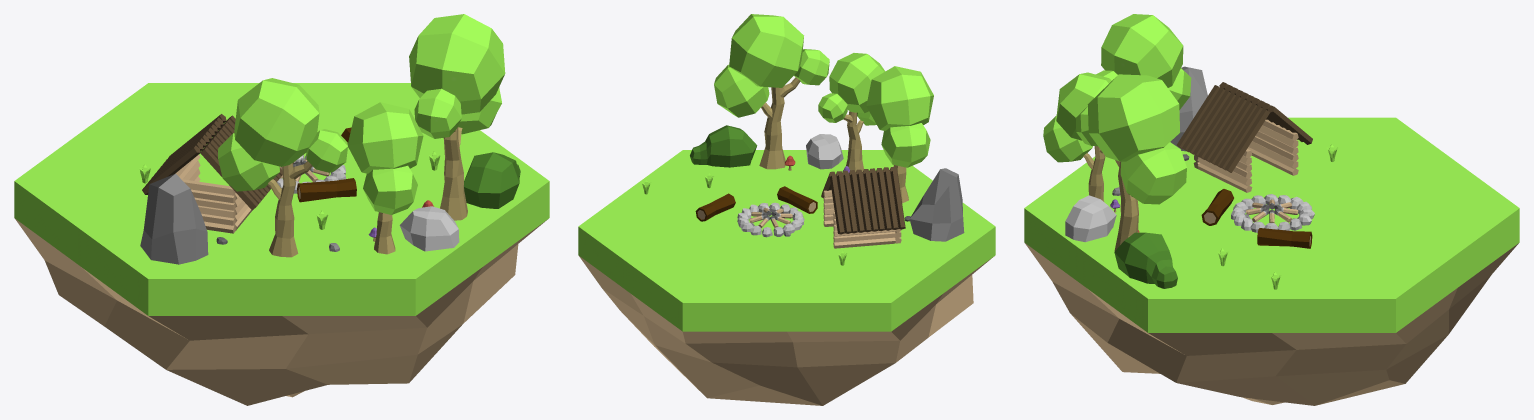
Rendered from escenario_campamento.fbx.
3 views of the same model, side by side, from view 1: azimuth 30°, elevation 25°; view 2: azimuth 150°, elevation 25°; view 3: azimuth 270°, elevation 25° (orthographic). The views are drawn at different scales.
Parts seen in each view (by area): view 1: CAMPAMENTO; view 2: CAMPAMENTO; view 3: CAMPAMENTO.
Part boxes in pixels (x1,y1,x2,y2): CAMPAMENTO: (14,14,549,405); CAMPAMENTO: (578,14,995,405); CAMPAMENTO: (1024,14,1519,405).
Size of the model in its own units: 3221 by 2790 by 2650.
